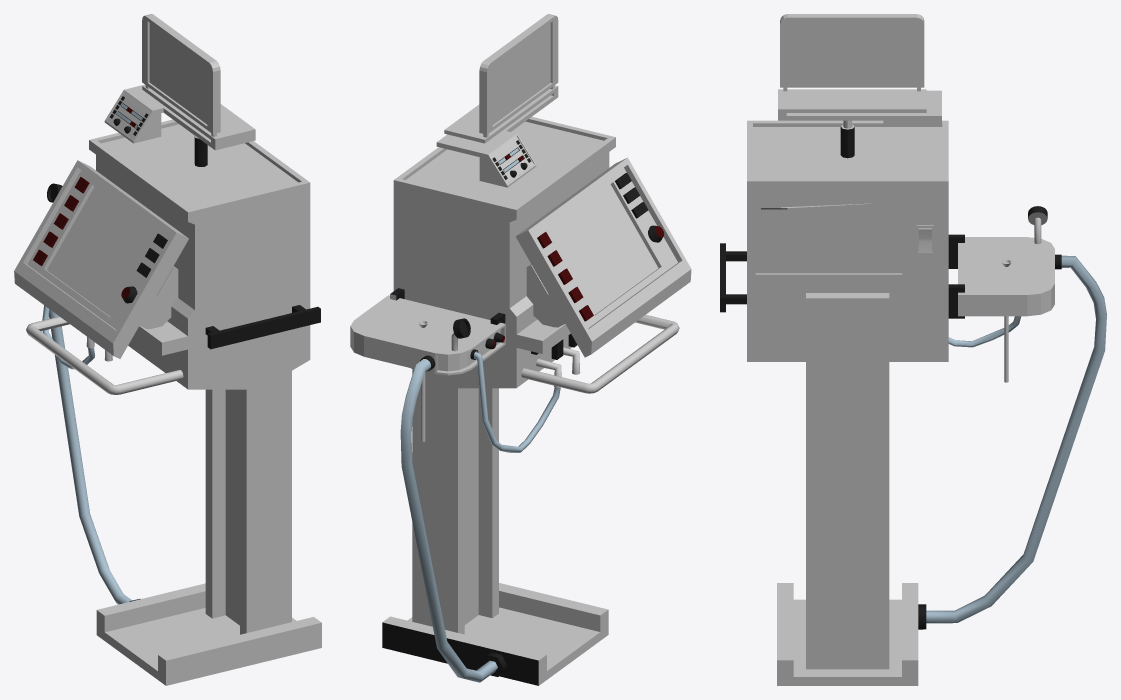
The model's file is Monitor.fbx.
The picture shows the model from 3 angles, left to right: view 1: azimuth 30°, elevation 25°; view 2: azimuth 150°, elevation 25°; view 3: azimuth 270°, elevation 25°; orthographic projection.
Visible parts, largest first — view 1: Cube.003; view 2: Cube.003; view 3: Cube.003.
Part boxes in pixels (x1,y1,x2,y2): Cube.003: (14, 14, 321, 685); Cube.003: (350, 14, 691, 685); Cube.003: (720, 14, 1106, 685).
Size of the model in its own units: 10.13 by 26.29 by 14.9.
